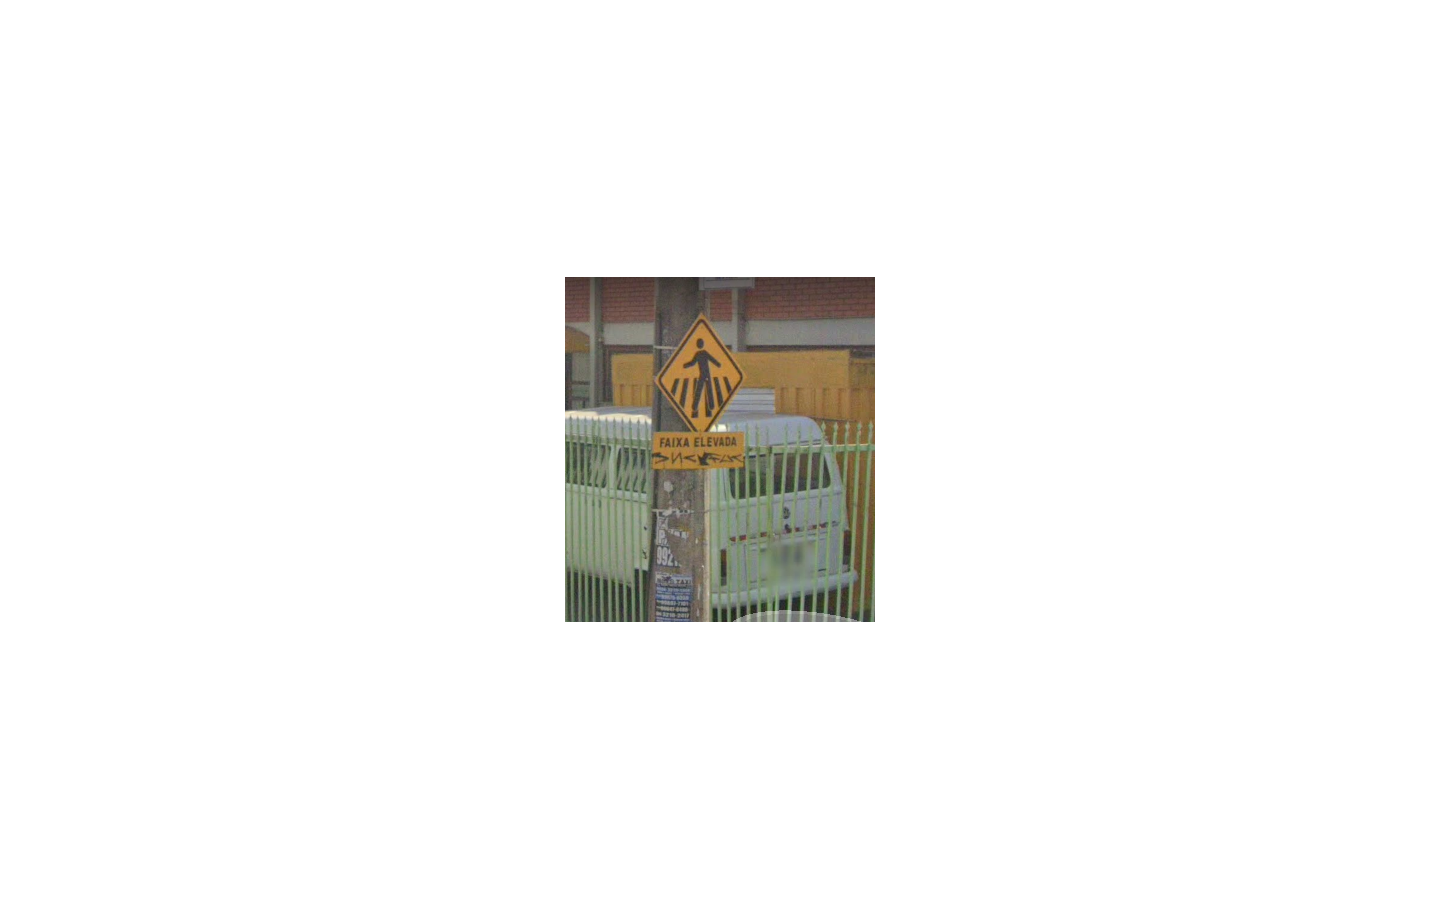telev: (649, 314, 746, 471)
